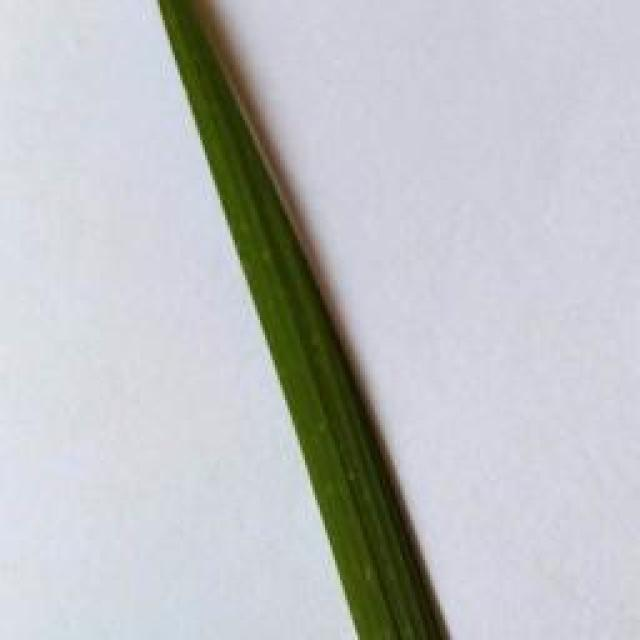Bacterial_Blight: (157, 0, 436, 640)
